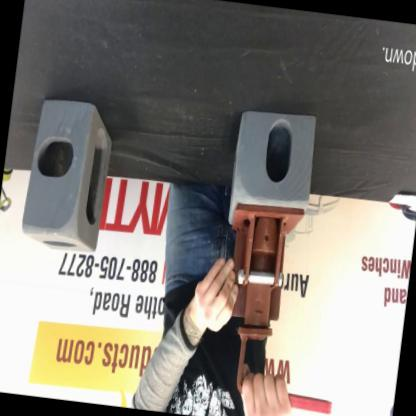CornerCasting: (15, 76, 126, 262), (223, 99, 324, 240)
